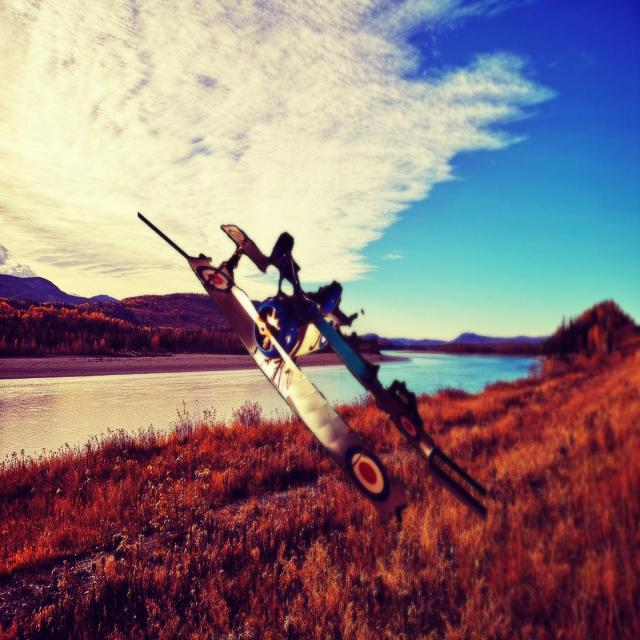airplane: (136, 211, 488, 524)
